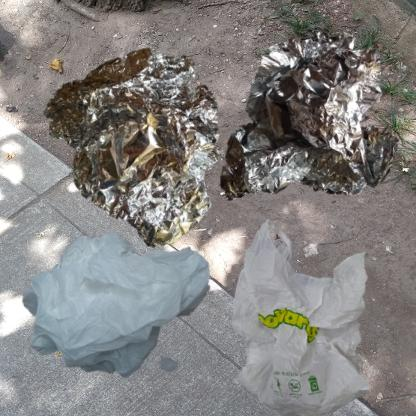aluminio: (10, 10, 287, 284), (213, 10, 416, 249)
bolsa: (10, 213, 239, 404), (213, 213, 407, 416)
